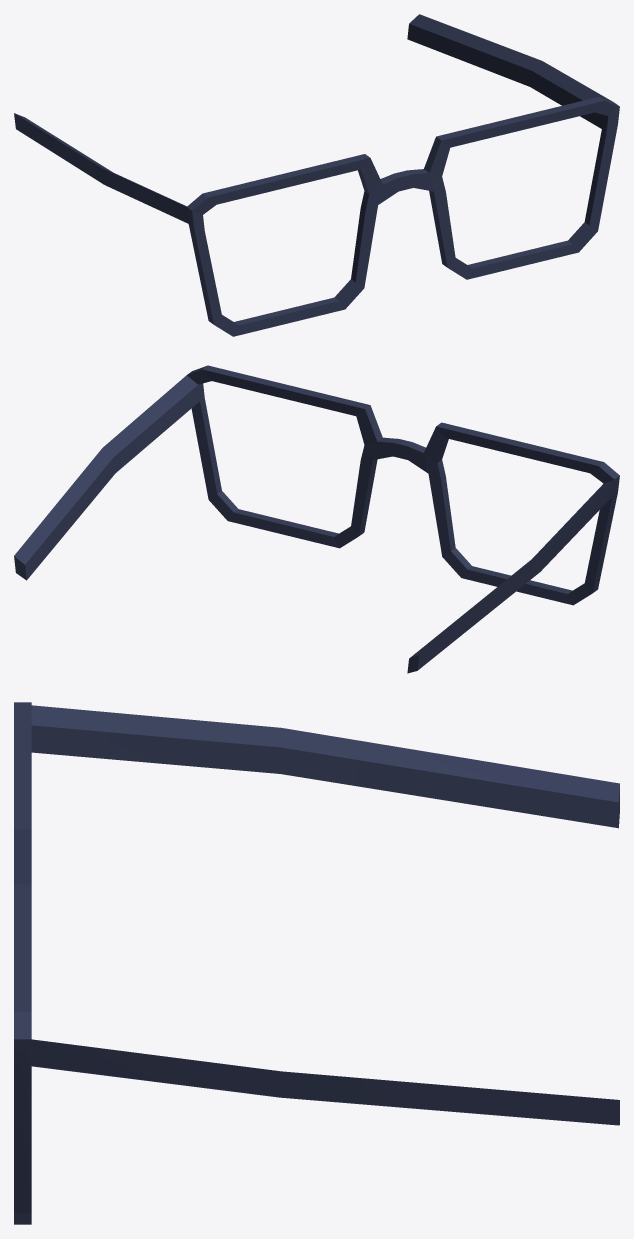
Rendered from Accesorios_LentesHipsters.fbx.
3 renders of one model, top to bottom at view 1: azimuth 30°, elevation 25°; view 2: azimuth 150°, elevation 25°; view 3: azimuth 270°, elevation 25°, orthographic. The views are drawn at different scales.
Parts seen in each view (by area): view 1: Lentes_hipsters; view 2: Lentes_hipsters; view 3: Lentes_hipsters.
Boxes of the visible parts, bbox=[...] form: Lentes_hipsters: bbox=[14, 14, 619, 336]; Lentes_hipsters: bbox=[14, 365, 619, 673]; Lentes_hipsters: bbox=[14, 702, 619, 1224].
Size of the model in its own units: 2.94 by 0.9287 by 2.19.
